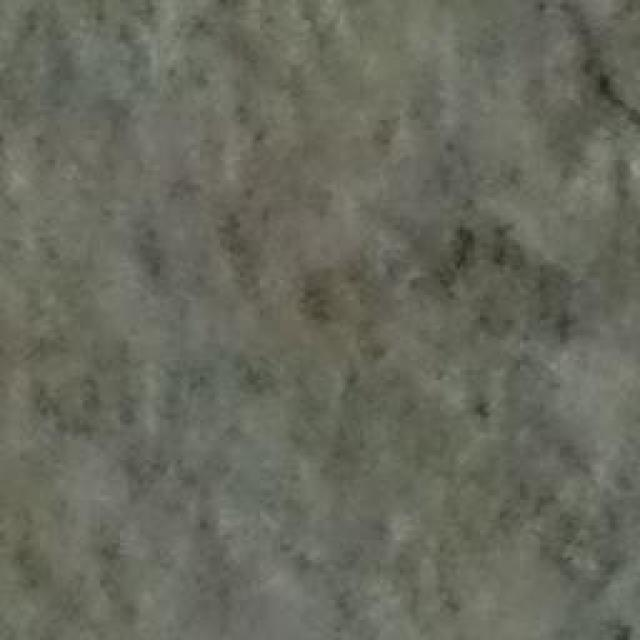Longitudinal: (522, 0, 639, 142)
Rippled: (2, 3, 514, 640)
